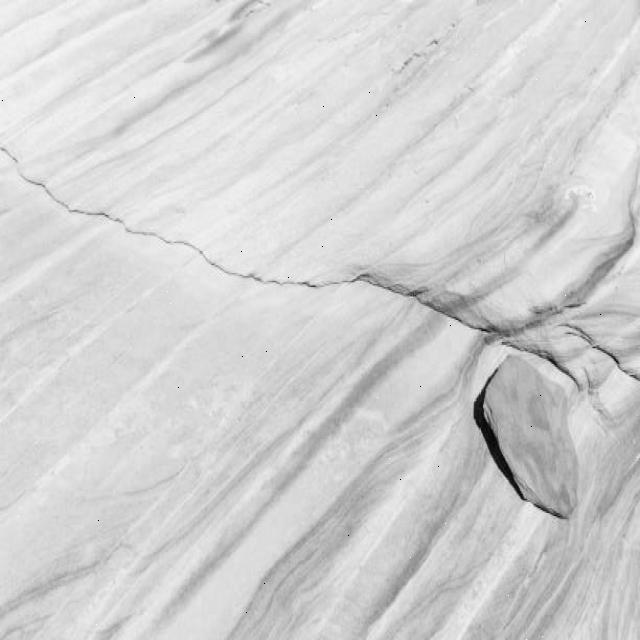Sedimentary: (1, 1, 640, 638)
